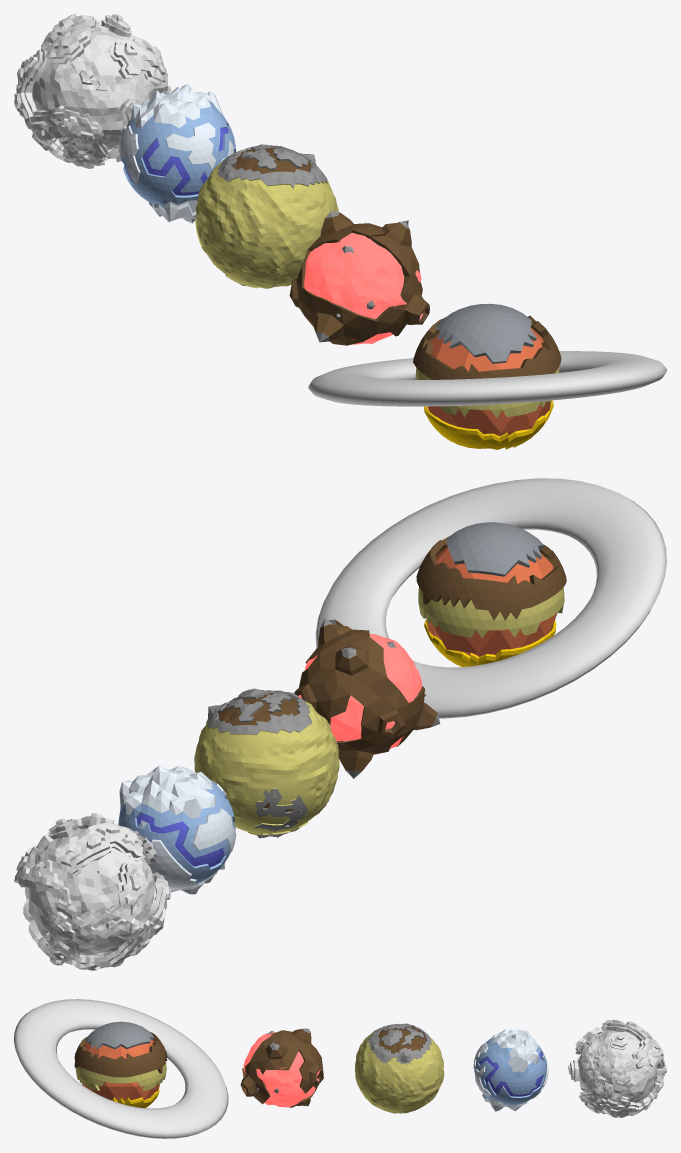
Rendered from PlanetCollection.fbx.
The picture shows the model from 3 angles, top to bottom: view 1: azimuth 30°, elevation 25°; view 2: azimuth 150°, elevation 25°; view 3: azimuth 270°, elevation 25°; orthographic projection. The views are drawn at different scales.
Parts seen in each view (by area): view 1: Icosphere.021, P1_Water.001, Icosphere.020, P1_Water.003, Planet.02; view 2: Icosphere.021, P1_Water.001, Icosphere.020, P1_Water.003, Planet.02; view 3: Icosphere.021, P1_Water.001, Icosphere.020, P1_Water.003, Planet.02.
Boxes of the visible parts, <box> form: Icosphere.021: <box>308,303,666,449</box>; P1_Water.001: <box>14,14,171,168</box>; Icosphere.020: <box>195,144,338,288</box>; P1_Water.003: <box>289,211,429,345</box>; Planet.02: <box>118,84,235,223</box>; Icosphere.021: <box>315,478,666,718</box>; P1_Water.001: <box>14,813,170,970</box>; Icosphere.020: <box>194,688,339,838</box>; P1_Water.003: <box>294,618,440,778</box>; Planet.02: <box>118,765,236,894</box>; Icosphere.021: <box>14,999,228,1138</box>; P1_Water.001: <box>568,1019,666,1117</box>; Icosphere.020: <box>355,1023,444,1113</box>; P1_Water.003: <box>240,1028,323,1107</box>; Planet.02: <box>473,1029,548,1111</box>.
Bounding box in the file's own units: 496 × 214 × 1444.
